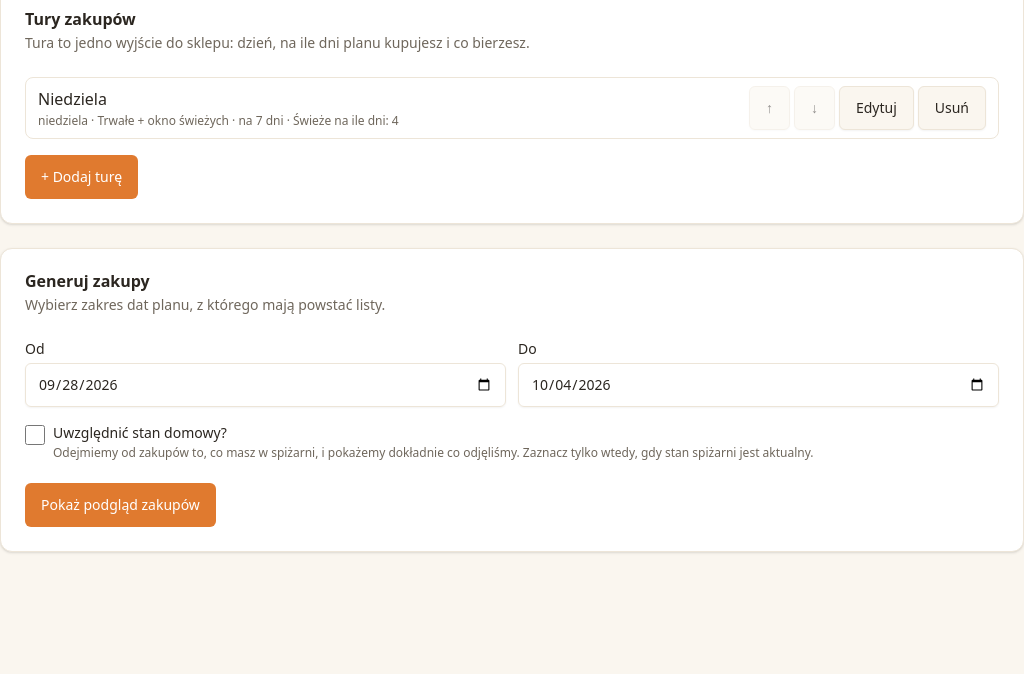
Test case: ZakupyPage › podgląd pokazuje potrzebę, opakowania i resztkę
Click the button with test id "zakupy-generate" at (120, 505), box [25,483,216,527]
(page scrolled)
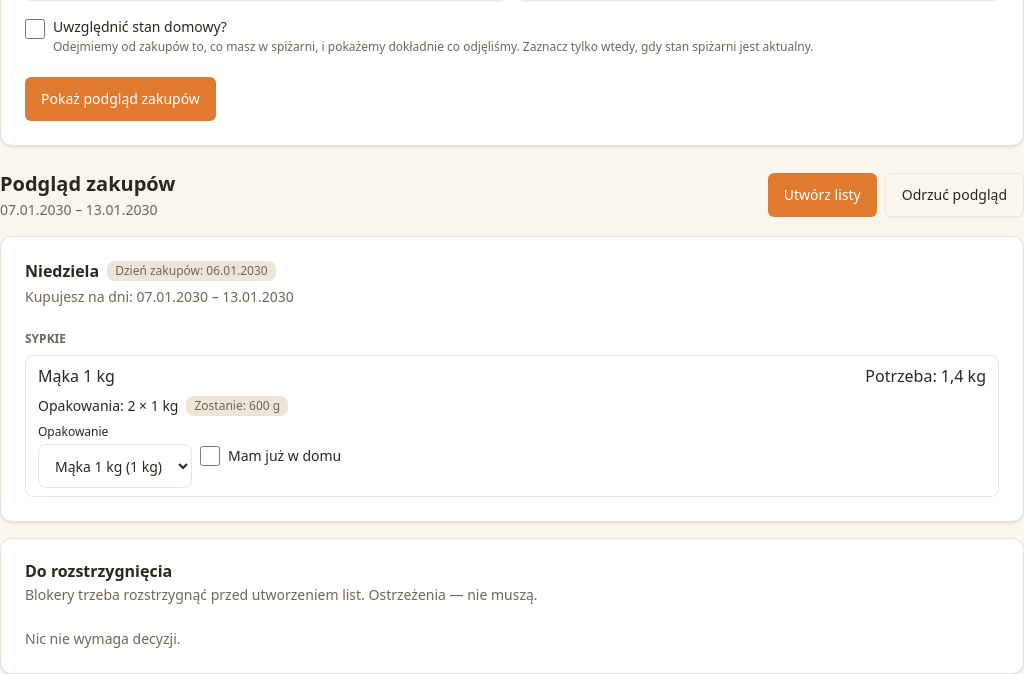
Now the text with test id "preview-needed-10" shows "1,4 kg", box [865,365,986,387]
Now the text with test id "preview-packages-10" shows "2 ×", box [38,396,178,415]
Now the text with test id "leftover-badge" reads "Zostanie: 600 g", box [194,397,280,414]
